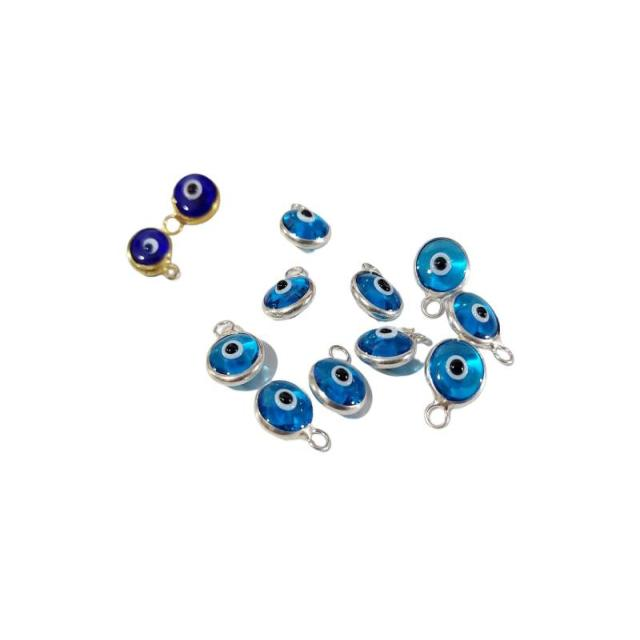Nazar-Boncugu: (256, 381, 329, 451), (307, 348, 374, 421), (278, 205, 332, 255)
